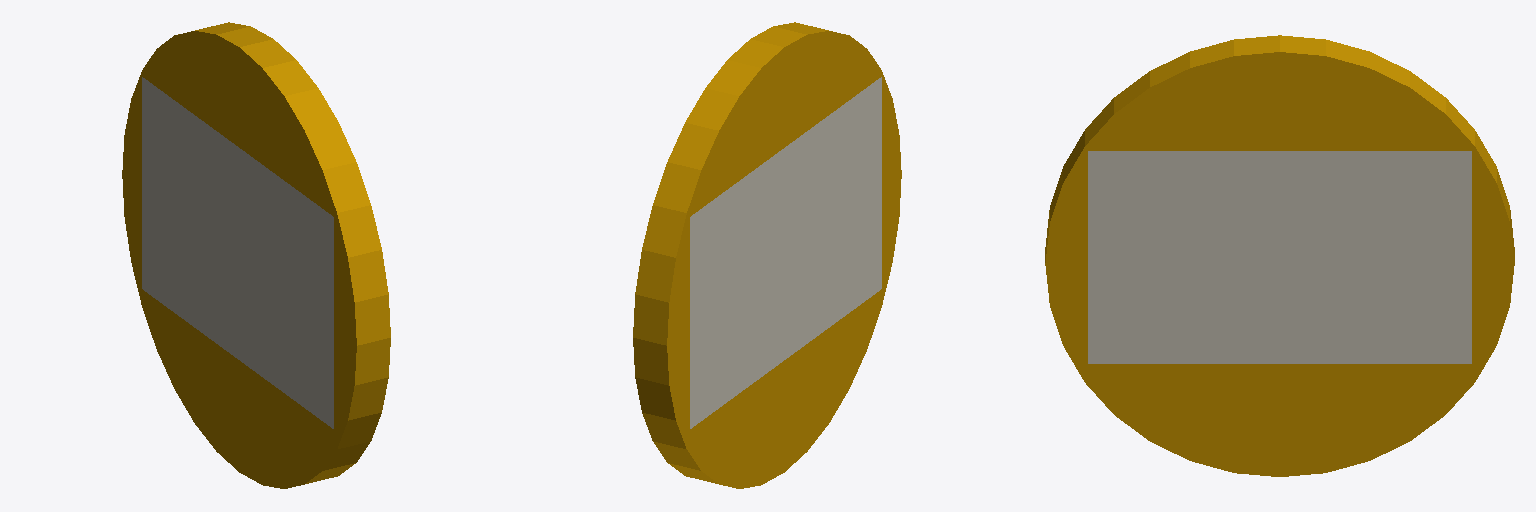
File: Coin.obj
The picture shows the model from 3 angles: view 1: azimuth 30°, elevation 25°; view 2: azimuth 150°, elevation 25°; view 3: azimuth 270°, elevation 25°; orthographic projection.
Visible parts, largest first — view 1: Rat_picture_back_Rat_picture.002; view 2: Rat_picture_back_Rat_picture.002; view 3: Rat_picture_back_Rat_picture.002.
Boxes of the visible parts, box(x1,y1,x2,y2) form: Rat_picture_back_Rat_picture.002: box(122, 22, 390, 488); Rat_picture_back_Rat_picture.002: box(633, 22, 901, 488); Rat_picture_back_Rat_picture.002: box(1045, 35, 1514, 476).
Size of the model in its own units: 0.1768 by 2 by 2.